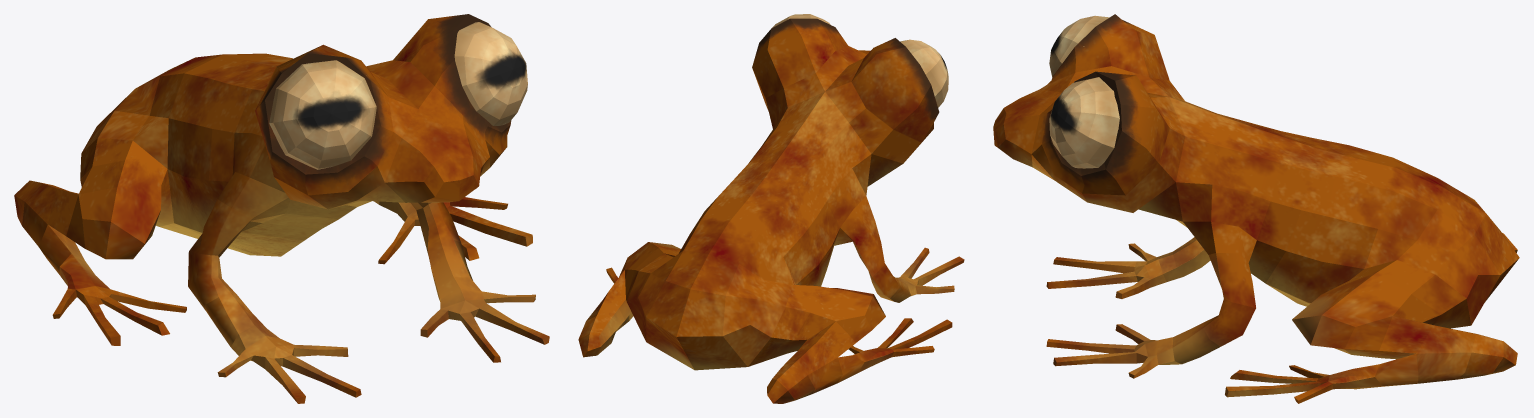
The model's file is low_poly_frog.glb.
3 renders of one model, left to right at view 1: azimuth 30°, elevation 25°; view 2: azimuth 150°, elevation 25°; view 3: azimuth 270°, elevation 25°, orthographic. The views are drawn at different scales.
Visible parts, largest first — view 1: SM_frog; view 2: SM_frog; view 3: SM_frog.
Part boxes in pixels (box(x1,y1,x2,y2)): SM_frog: box(14, 14, 549, 403); SM_frog: box(578, 14, 964, 403); SM_frog: box(993, 14, 1519, 403).
Bounding box in the file's own units: 0.0634 × 0.044 × 0.0747.
1 material, 1 textured.
